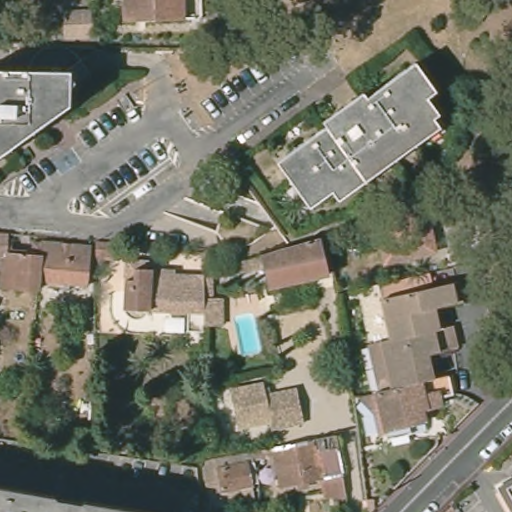pool: (231, 311, 266, 356)
